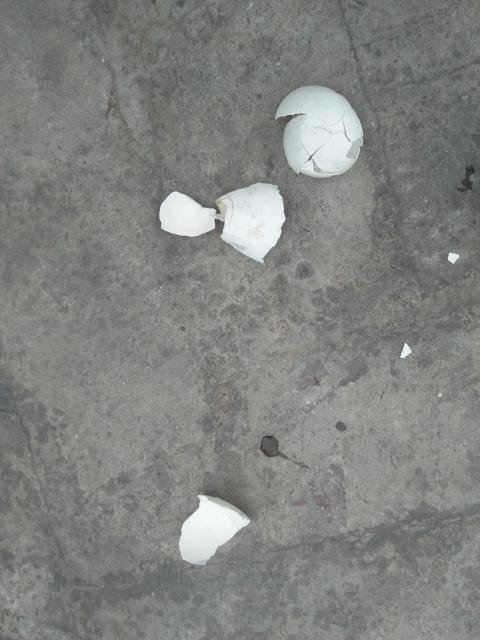Roto: (276, 81, 364, 179), (214, 181, 286, 264), (178, 493, 250, 566), (158, 190, 217, 238)
